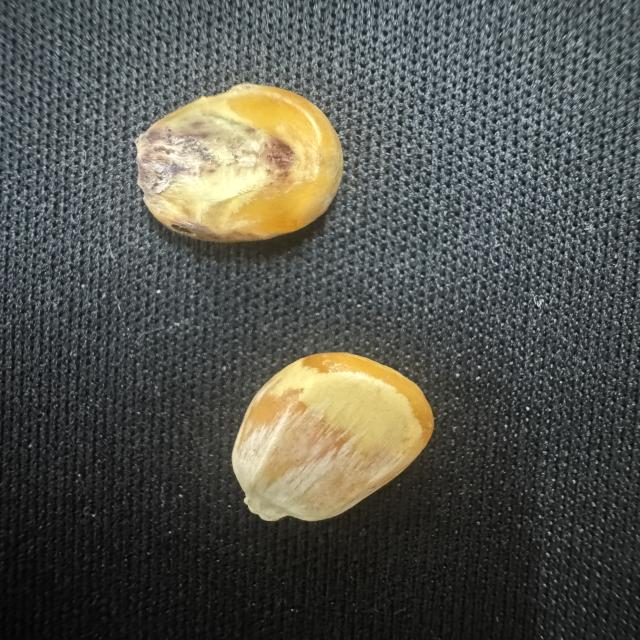Bad-Seed: (208, 346, 436, 534), (123, 75, 348, 249)
